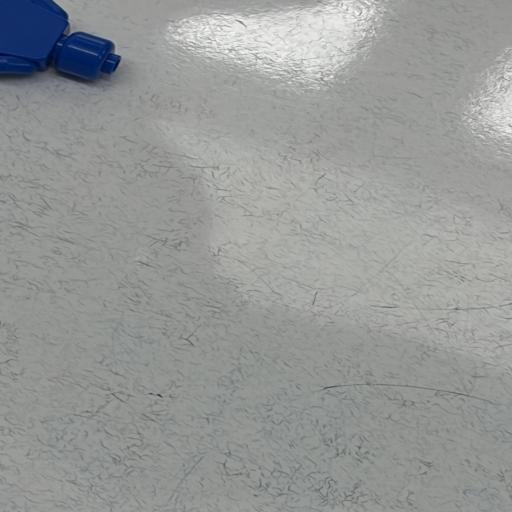Blue-Lego: (0, 0, 122, 81)
